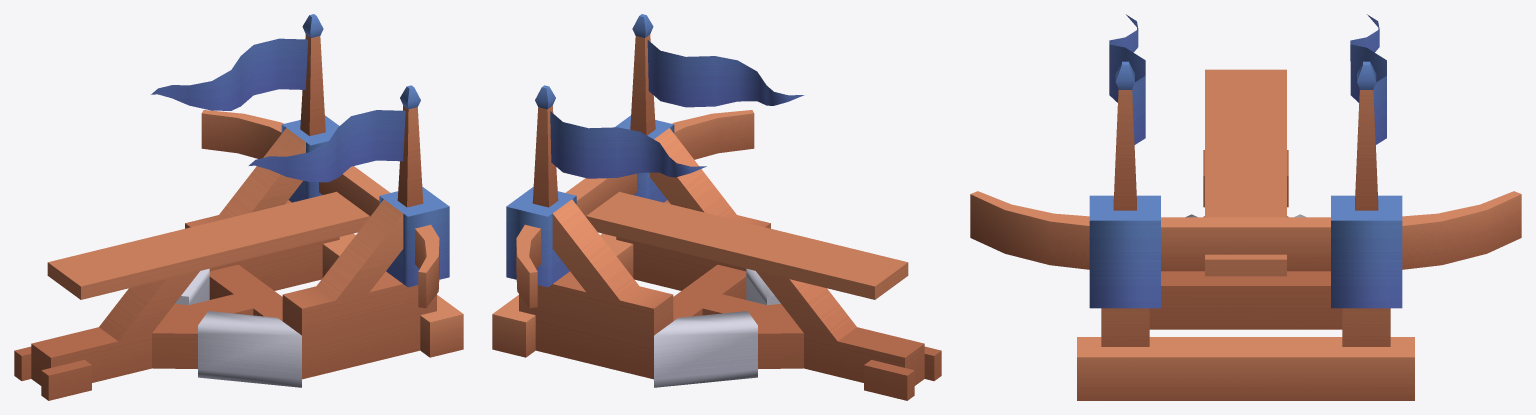
File: siege-ballista_lev3.glb
The picture shows the model from 3 angles, left to right: view 1: azimuth 30°, elevation 25°; view 2: azimuth 150°, elevation 25°; view 3: azimuth 270°, elevation 25°; orthographic projection. The views are drawn at different scales.
Visible parts, largest first — view 1: siege-ballista_lev3; view 2: siege-ballista_lev3; view 3: siege-ballista_lev3.
Part boxes in pixels (x1=…): siege-ballista_lev3: x1=14, y1=14, x2=463, y2=400; siege-ballista_lev3: x1=492, y1=14, x2=941, y2=400; siege-ballista_lev3: x1=970, y1=14, x2=1521, y2=400.
Bounding box in the file's own units: 6.72 × 4.67 × 7.12.
1 material, 1 textured.
